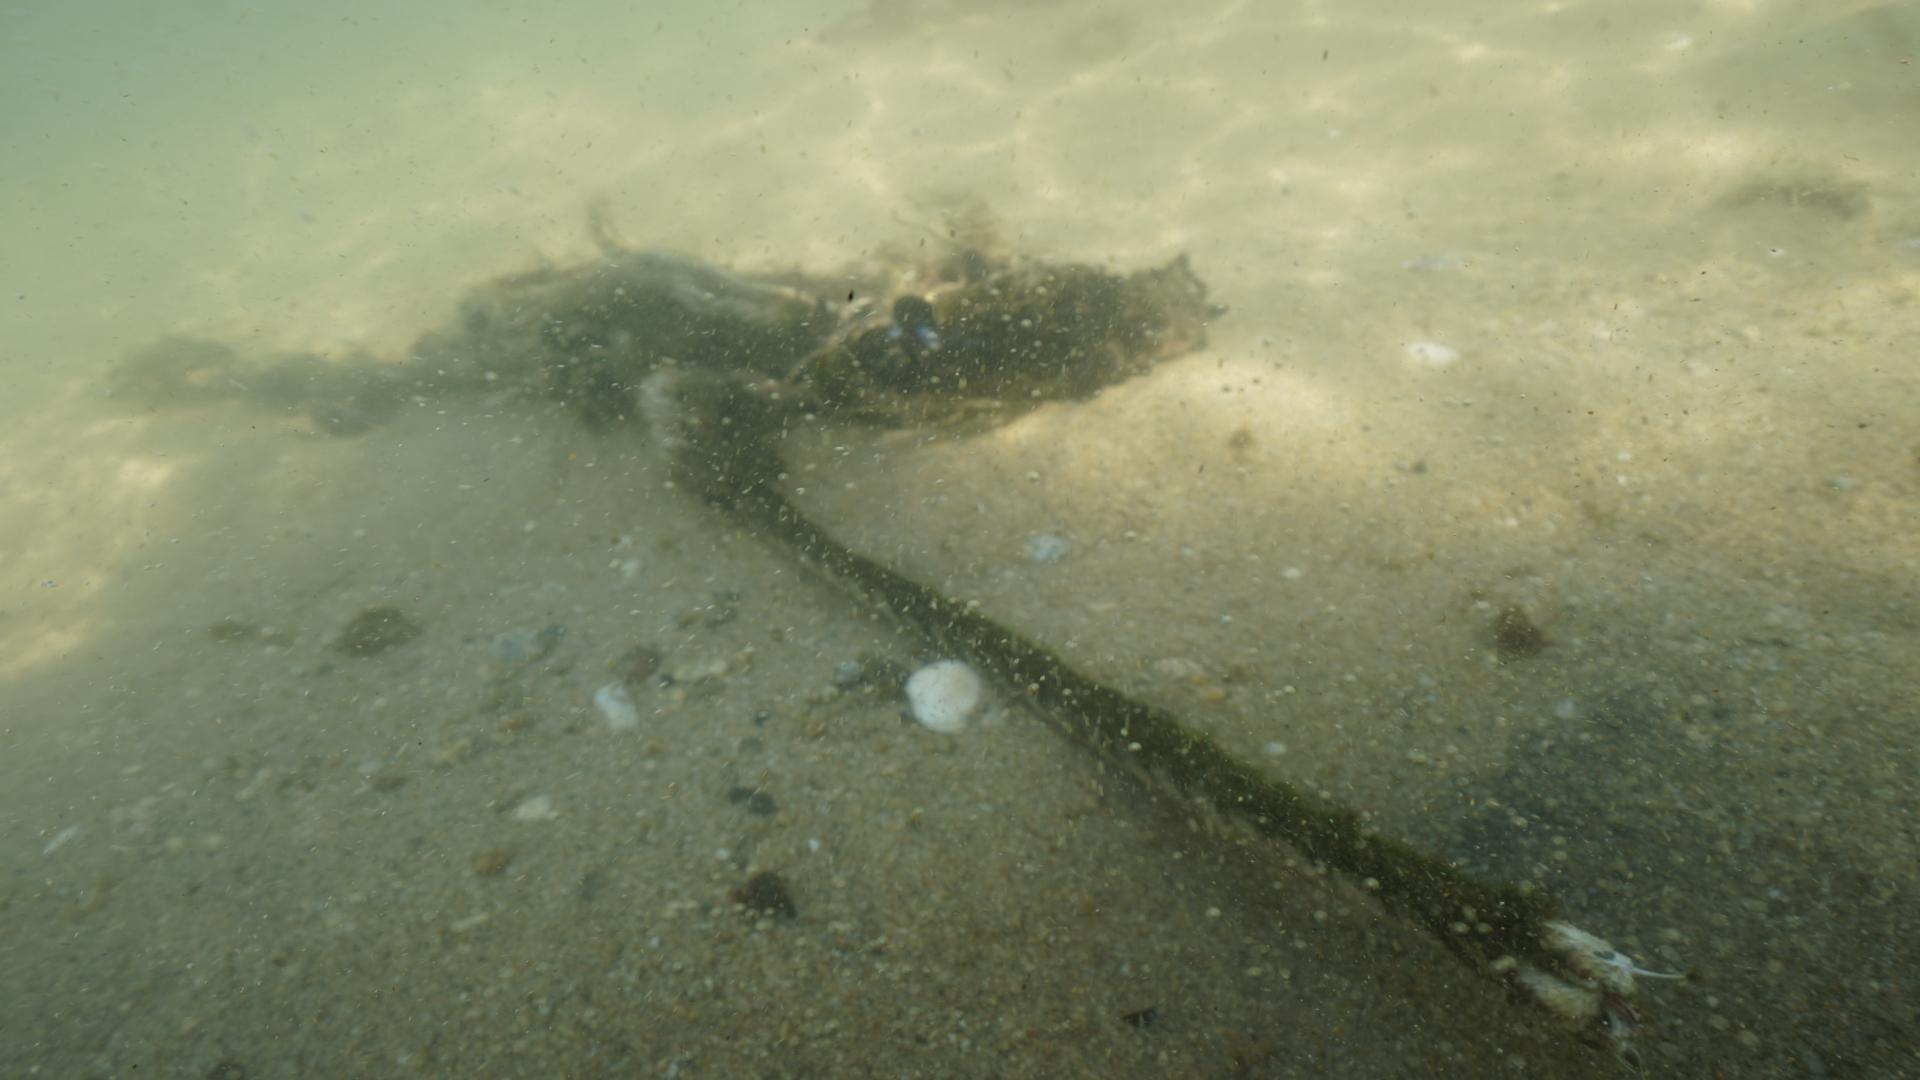bundle of ropes: (665, 405, 1644, 1063)
